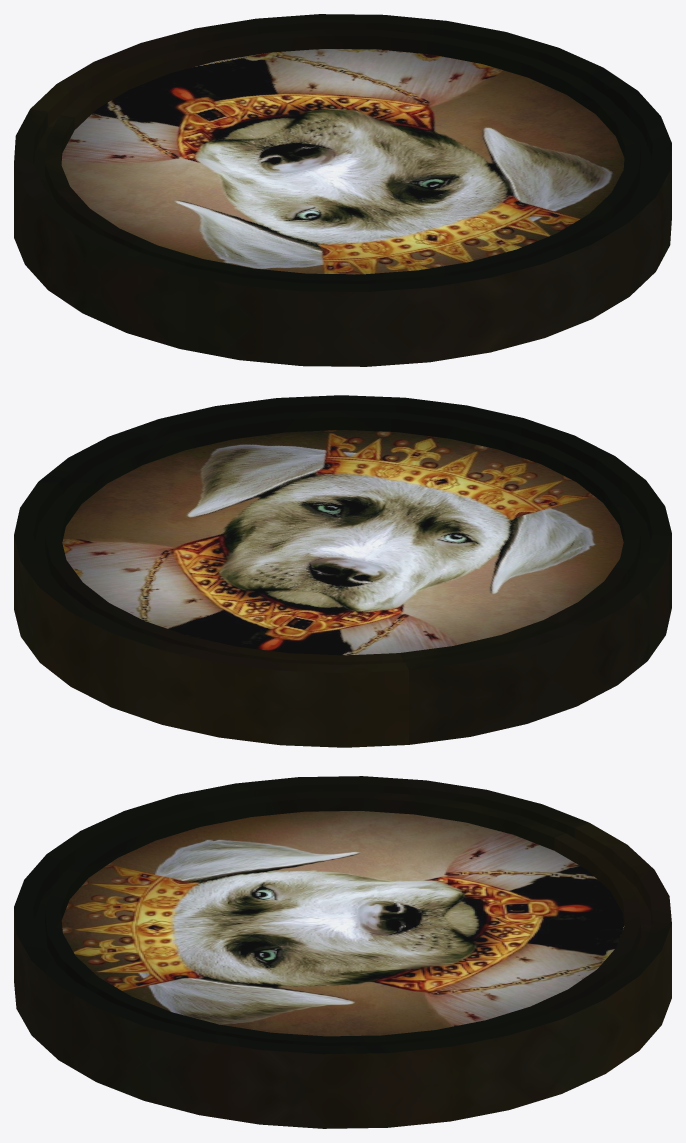
File: coin.glb
3 views of the same model, one above another, from view 1: azimuth 30°, elevation 25°; view 2: azimuth 150°, elevation 25°; view 3: azimuth 270°, elevation 25° (orthographic).
Visible parts, largest first — view 1: coin; view 2: coin; view 3: coin.
Part boxes in pixels (left/top/right/bottom): coin: left=14, top=14, right=671, bottom=366; coin: left=14, top=395, right=671, bottom=747; coin: left=14, top=776, right=671, bottom=1128.
Size of the model in its own units: 0.7985 by 0.1 by 0.7985.
1 material, 1 textured.
